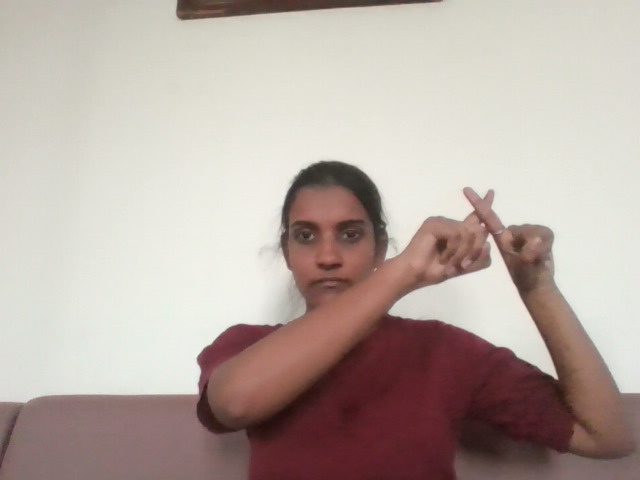no: (389, 182, 580, 338)
